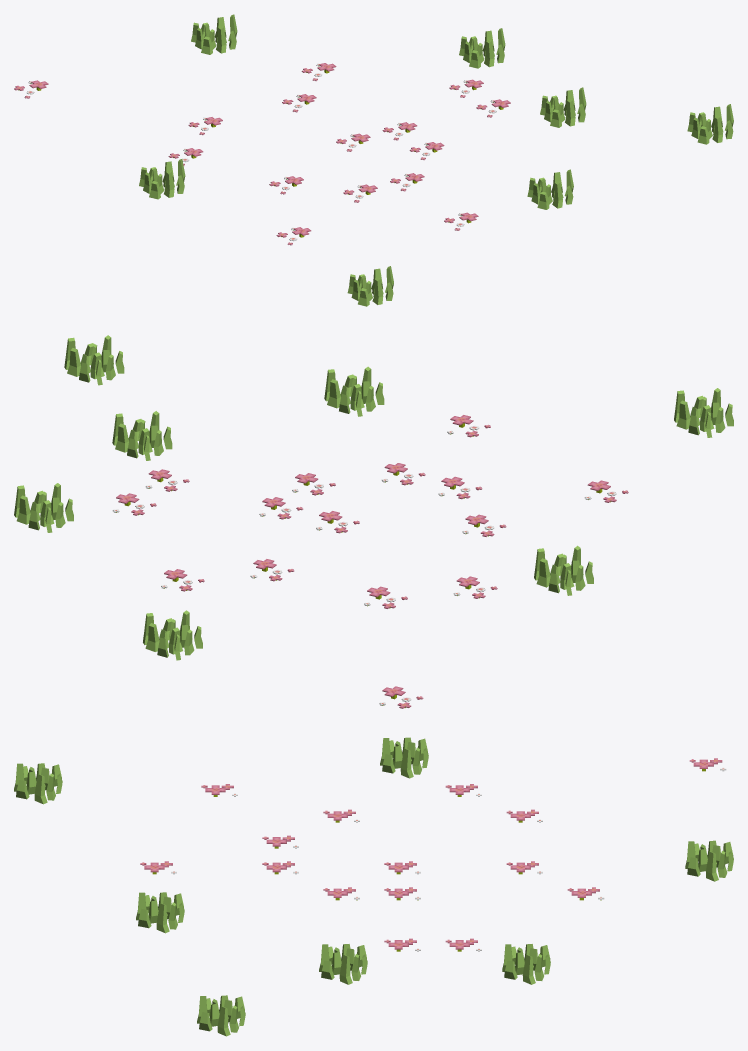
File: flower_grass 2.fbx
3 views of the same model, one above another, from view 1: azimuth 30°, elevation 25°; view 2: azimuth 150°, elevation 25°; view 3: azimuth 270°, elevation 25° (orthographic). The views are drawn at different scales.
Parts seen in each view (by area): view 1: Flower_B_5; view 2: Flower_B_5; view 3: Flower_B_5.
Boxes of the visible parts, x1,y1,x2,y2 form: Flower_B_5: (14,14,733,306); Flower_B_5: (14,335,733,708); Flower_B_5: (14,737,733,1036).
Bounding box in the file's own units: 6546 × 294 × 7079.
Materials: 2 (2 with a texture image).
